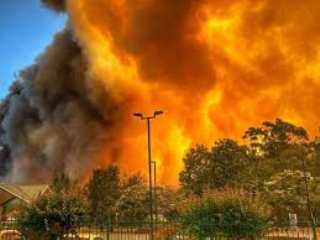fire: (106, 87, 221, 180)
smoke: (3, 38, 95, 178)
